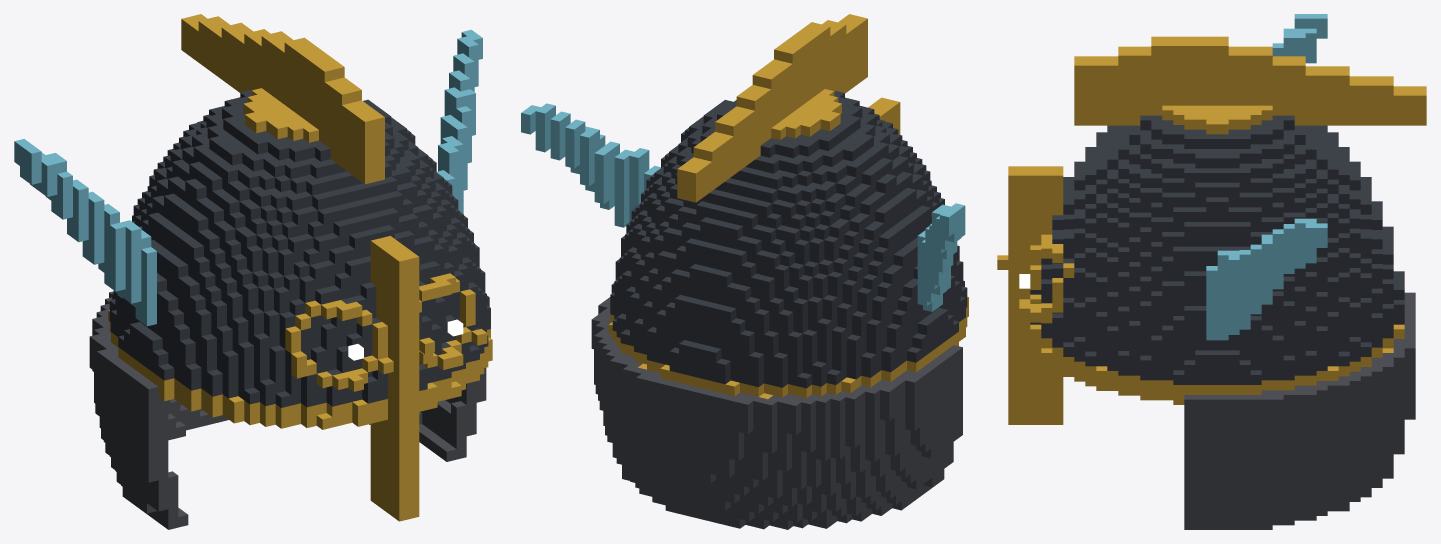
File: rimeguard_helm.glb
3 views of the same model, side by side, from view 1: azimuth 30°, elevation 25°; view 2: azimuth 150°, elevation 25°; view 3: azimuth 270°, elevation 25° (orthographic). The views are drawn at different scales.
Visible parts, largest first — view 1: rimeguard_helm; view 2: rimeguard_helm; view 3: rimeguard_helm.
Boxes of the visible parts, x1=… form: rimeguard_helm: x1=14, y1=14, x2=492, y2=529; rimeguard_helm: x1=521, y1=14, x2=968, y2=529; rimeguard_helm: x1=997, y1=14, x2=1426, y2=529.
Bounding box in the file's own units: 0.552 × 0.504 × 0.468.
